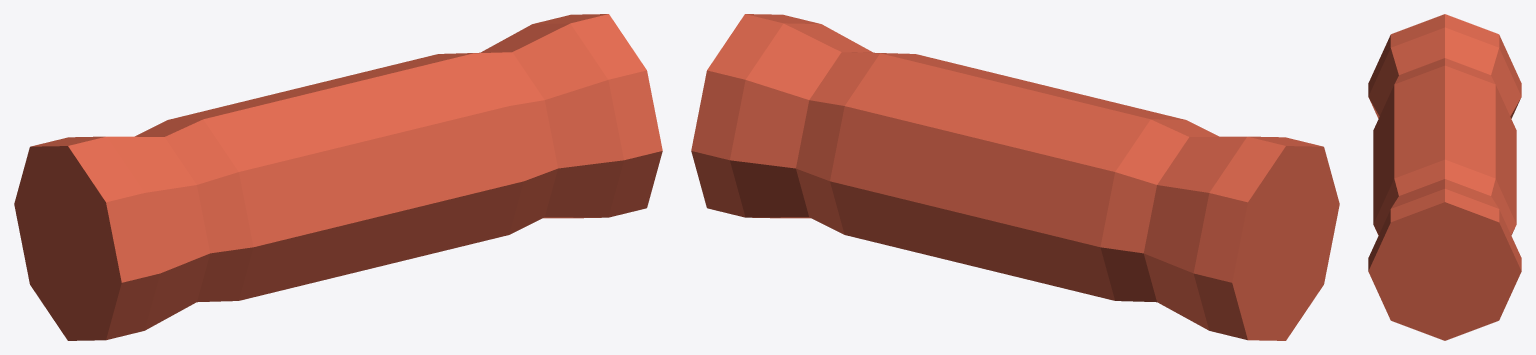
The model's file is bedroll-packed.obj.
3 renders of one model, left to right at view 1: azimuth 30°, elevation 25°; view 2: azimuth 150°, elevation 25°; view 3: azimuth 270°, elevation 25°, orthographic. The views are drawn at different scales.
Bounding box in the file's own units: 0.2604 × 0.0897 × 0.0897.
